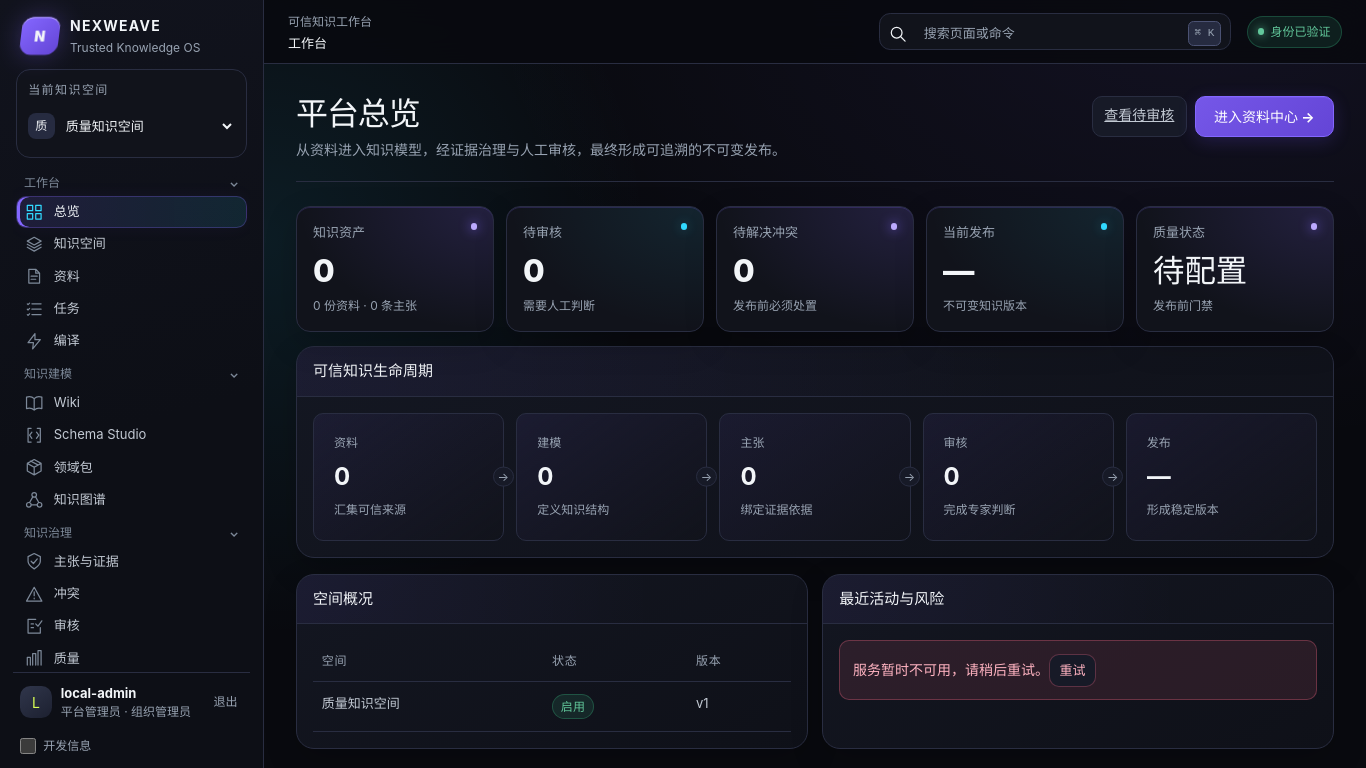
Test case: retries a failed audit projection without losing the authenticated shell
This screenshot has width=1366, height=768.
Expected: the message shows "服务暂时不可用，请稍后重试", [853, 661, 1049, 678]
What coordinates should you click on to do the following:
click the button "重试"
I would click on:
 (1073, 670)
Its box is [1049, 654, 1096, 687].
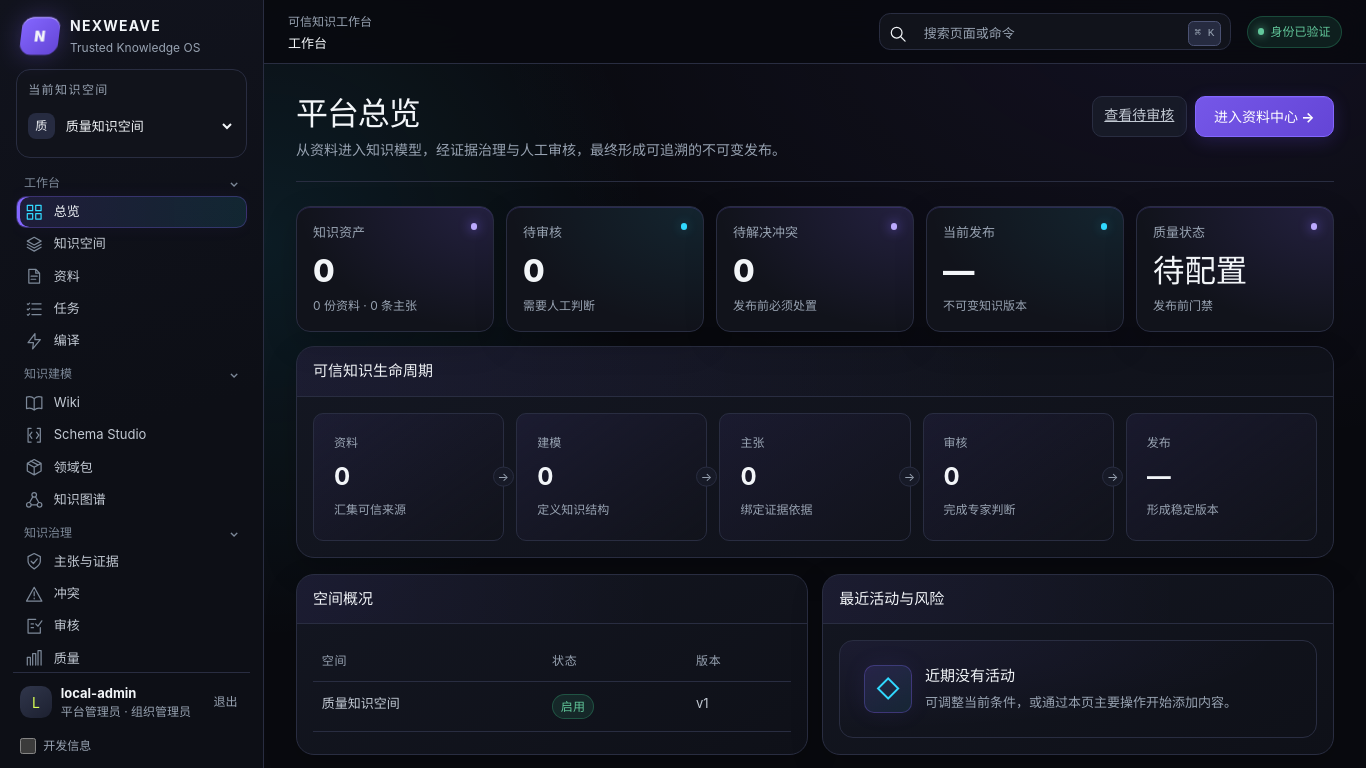
Expected: the heading "平台总览" is shown, [296, 94, 420, 133]
Now the message "服务暂时不可用，请稍后重试。 重试" is gone
